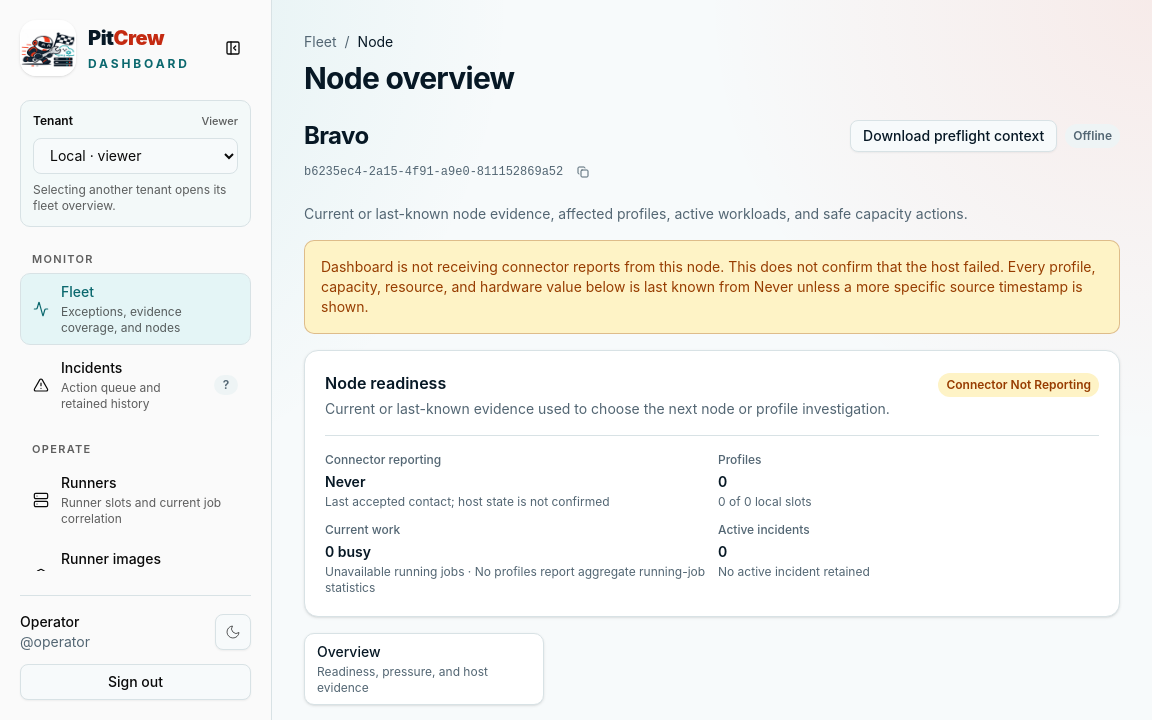
Scenario: fleet overview and node detail › prepares a schema-bound diagnostics context for read-only users
Click the button "Download preflight context" at (954, 136), box [850,120,1057,152]
(page scrolled)
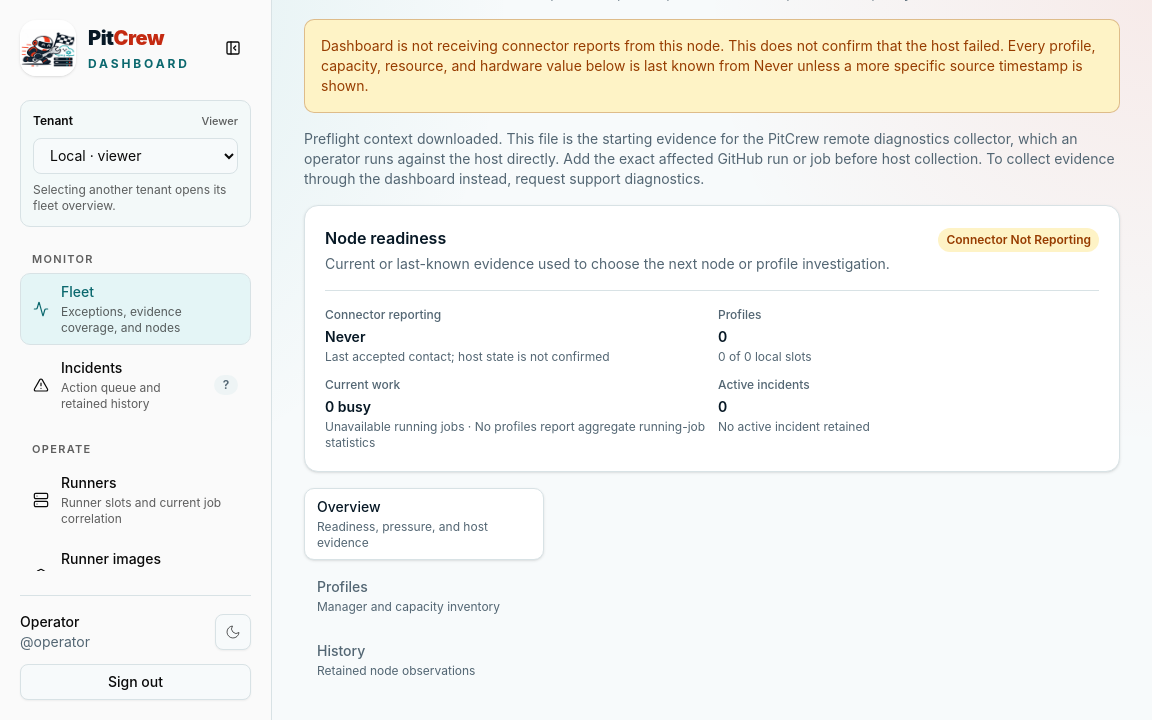
Expected: the text "Preflight context downloaded" is shown, [304,130,1115,187]
